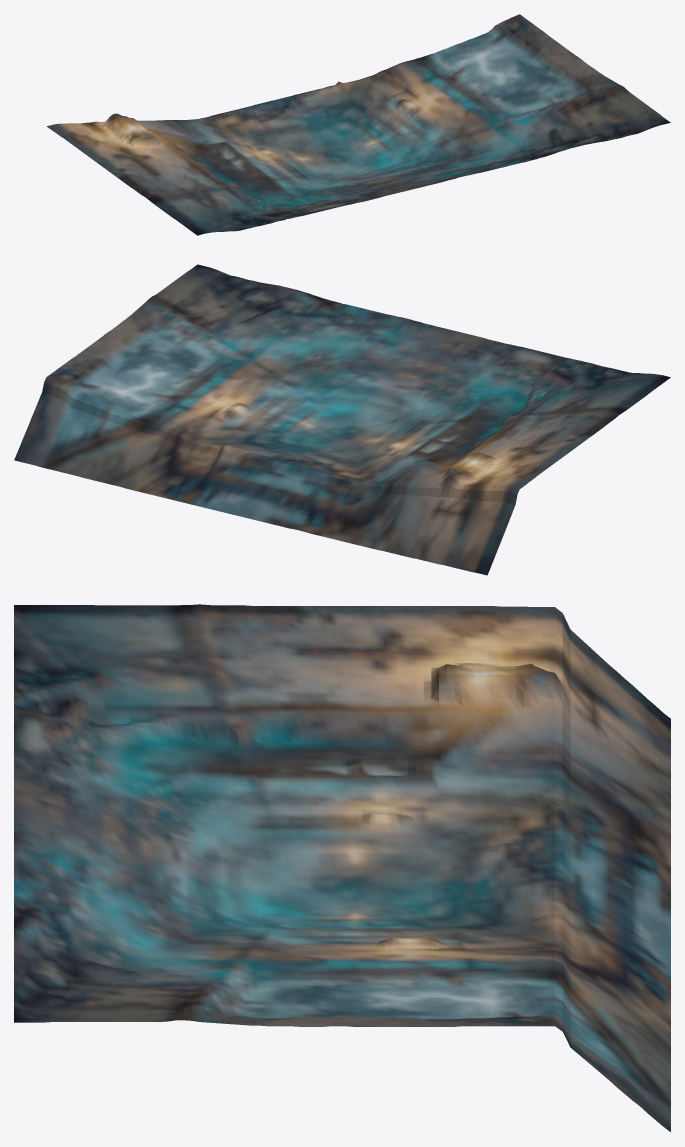
Rendered from vggt_surface.glb.
The picture shows the model from 3 angles, top to bottom: view 1: azimuth 30°, elevation 25°; view 2: azimuth 150°, elevation 25°; view 3: azimuth 270°, elevation 25°; orthographic projection. The views are drawn at different scales.
Visible parts, largest first — view 1: vggt_reconstructed_surface; view 2: vggt_reconstructed_surface; view 3: vggt_reconstructed_surface.
Part boxes in pixels (left/top/right/bottom): vggt_reconstructed_surface: left=47, top=14, right=670, bottom=235; vggt_reconstructed_surface: left=14, top=264, right=670, bottom=575; vggt_reconstructed_surface: left=14, top=604, right=670, bottom=1132.
Bounding box in the file's own units: 26.79 × 3.54 × 18.
